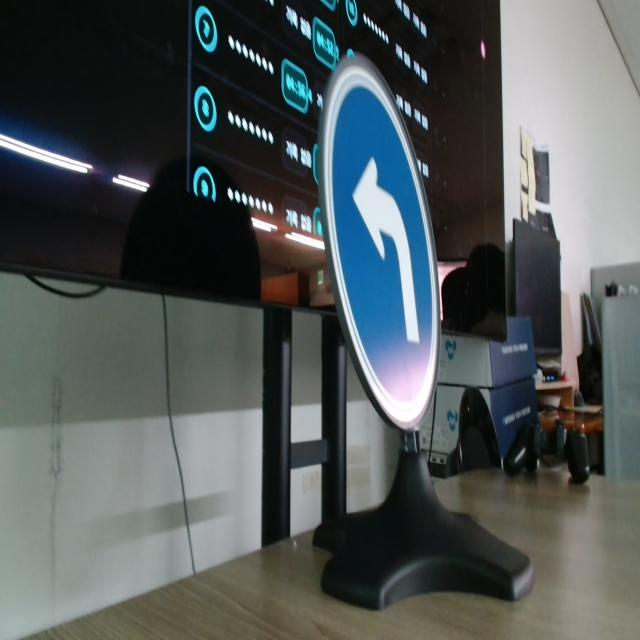left_direction: (317, 40, 449, 427)
